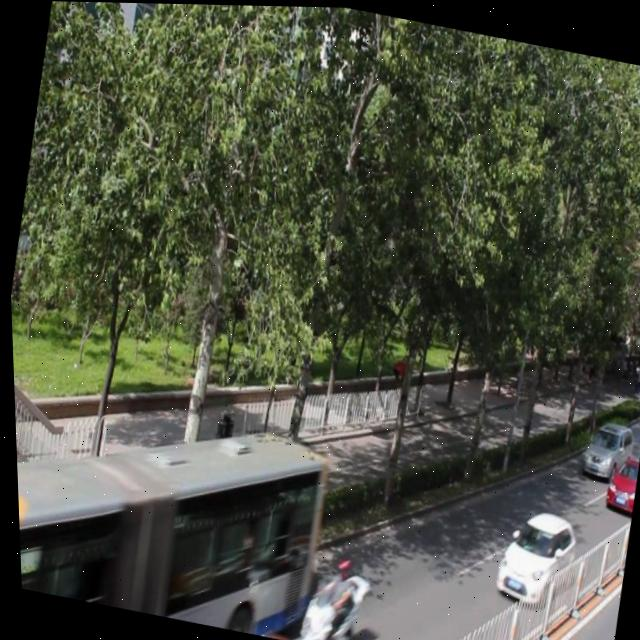car: (484, 502, 575, 609), (574, 413, 632, 480), (596, 451, 638, 514)
van: (11, 388, 330, 640)
